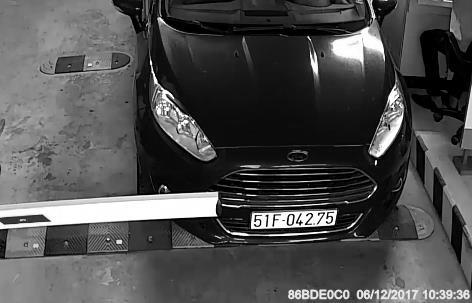License-plate: (236, 197, 357, 239)
